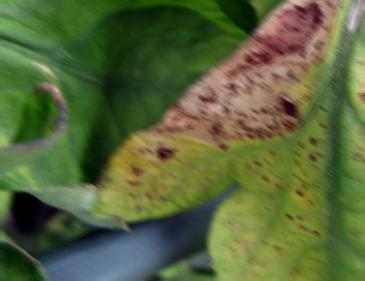Tomato Early blight leaf: (119, 0, 365, 281)
